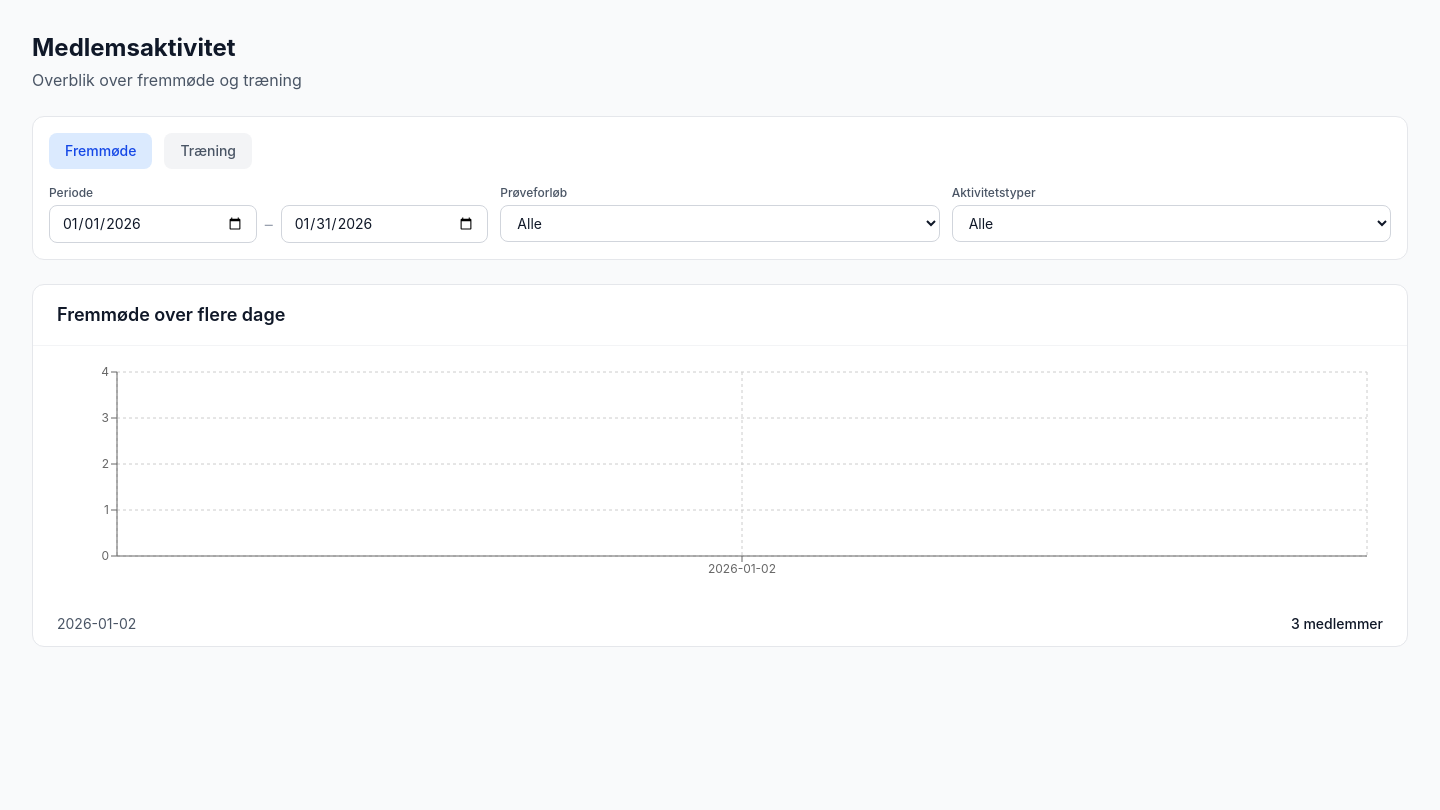
Scenario: MemberActivityOverviewPage › shows stacked practice chart and drilldown hint
Click the button "Træning" at (208, 151), box [164,133,252,169]
(page scrolled)
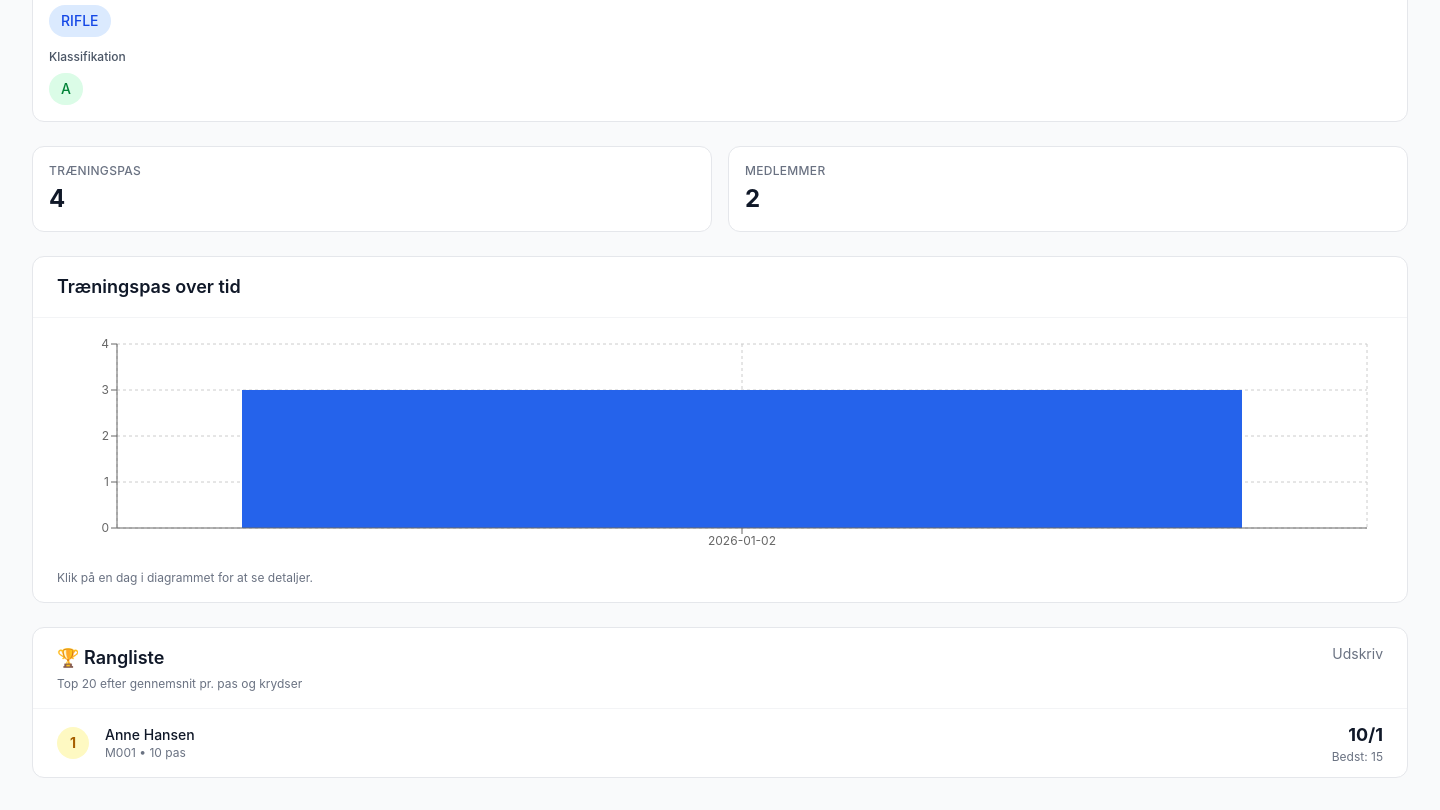
Result: the heading "Træningspas over tid" is shown at [57,276,241,297]
Result: the text "Klik på en dag i diagrammet for at se detaljer." is shown at [57,570,313,585]
